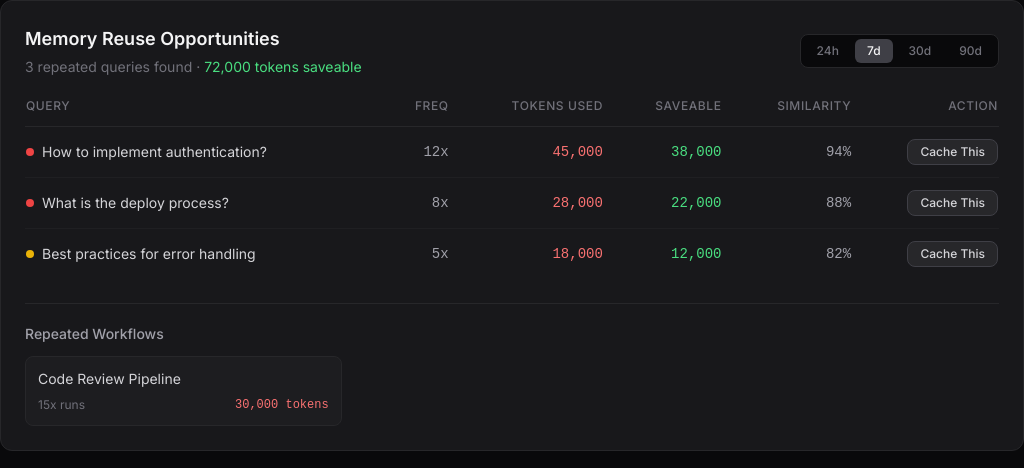
Test case: MemoryReuseTable › marks row as cached when Cache This is clicked
Click the button "Cache This" in the row of "How to implement authentication?" at (953, 152), box x1=908 y1=139 x2=998 y2=165
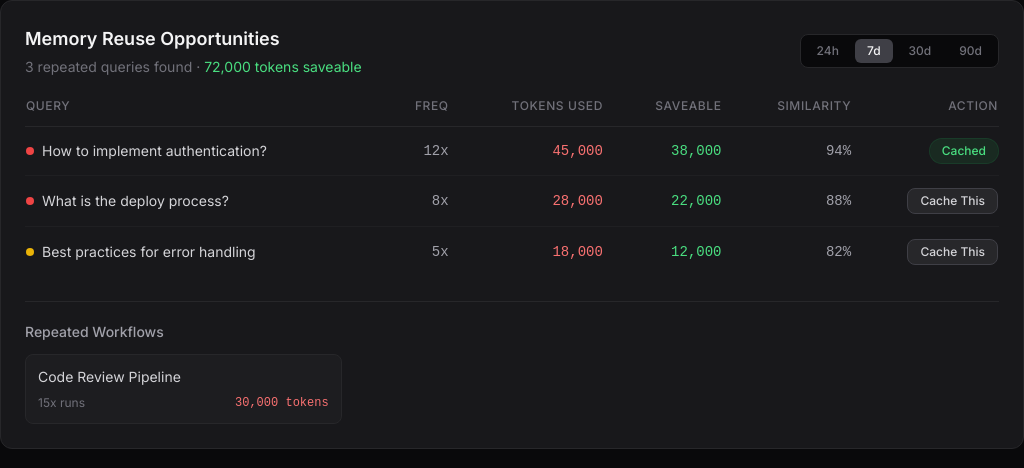
Expected: the text "Cached" is shown, x1=930 y1=139 x2=998 y2=163
Expected: the number of buttons "Cache This" is 2, x1=908 y1=188 x2=998 y2=214; x1=908 y1=239 x2=998 y2=265
